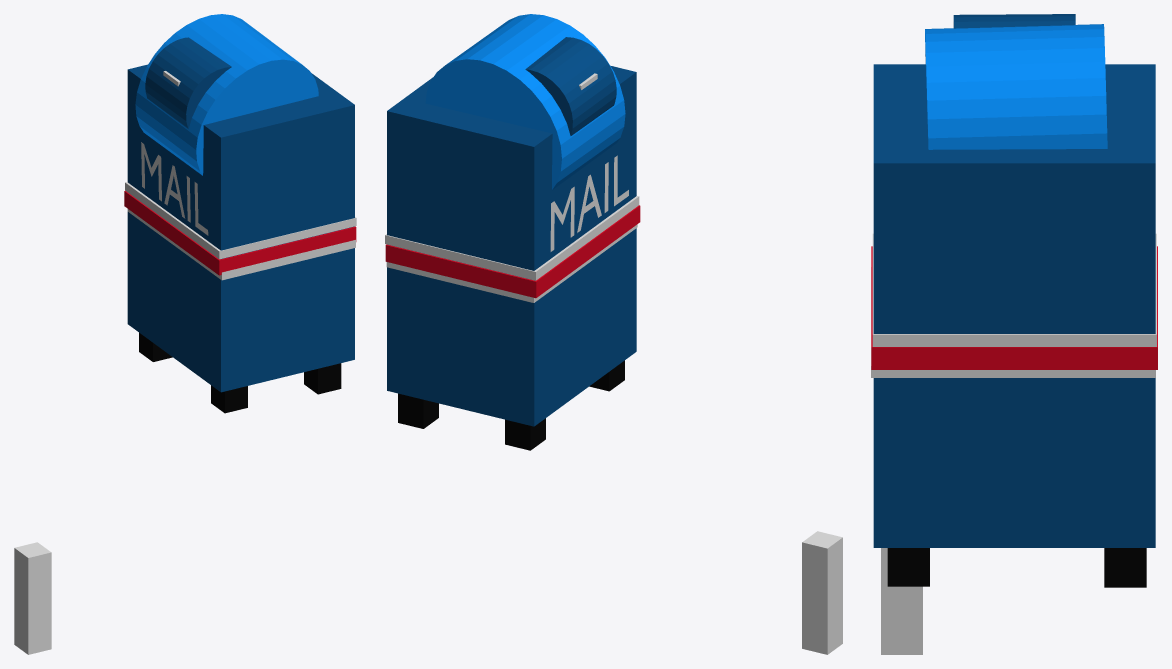
The model's file is cityMailbox.fbx.
3 views of the same model, side by side, from view 1: azimuth 30°, elevation 25°; view 2: azimuth 150°, elevation 25°; view 3: azimuth 270°, elevation 25° (orthographic). The views are drawn at different scales.
Parts seen in each view (by area): view 1: Cube, Cylinder, Cylinder.001, Cube.001, Cube.008, Cube.007, Cube.006, Text, Cube.003, Cube.004; view 2: Cube, Cylinder, Cylinder.001, Cube.001, Cube.008, Cube.007, Text, Cube.006, Cube.002, Cube.005; view 3: Cube, Cylinder, Cube.008, Cube.007, Cube.001, Cube.006, Cube.002, Cube.003, Cylinder.001.
Part boxes in pixels (<box>): Cube: <box>127,64,354,392</box>; Cylinder: <box>135,14,318,175</box>; Cylinder.001: <box>145,37,231,128</box>; Cube.001: <box>14,542,51,654</box>; Cube.008: <box>124,191,356,275</box>; Cube.007: <box>125,182,356,259</box>; Cube.006: <box>127,209,355,280</box>; Text: <box>141,142,208,235</box>; Cube.003: <box>304,363,341,394</box>; Cube.004: <box>211,385,247,413</box>; Cube: <box>387,65,636,426</box>; Cylinder: <box>425,14,625,189</box>; Cylinder.001: <box>525,37,616,135</box>; Cube.001: <box>802,531,842,654</box>; Cube.008: <box>385,205,640,298</box>; Cube.007: <box>385,196,639,280</box>; Text: <box>550,155,628,251</box>; Cube.006: <box>386,224,637,302</box>; Cube.002: <box>398,393,438,428</box>; Cube.005: <box>505,418,545,450</box>; Cube: <box>873,64,1155,547</box>; Cylinder: <box>925,24,1107,149</box>; Cube.008: <box>871,246,1157,369</box>; Cube.007: <box>872,233,1156,346</box>; Cube.001: <box>881,548,922,654</box>; Cube.006: <box>871,267,1155,377</box>; Cube.002: <box>1104,548,1146,587</box>; Cube.003: <box>887,548,929,586</box>; Cylinder.001: <box>953,14,1075,28</box>.
Bounding box in the file's own units: 162 × 248 × 81.65.
